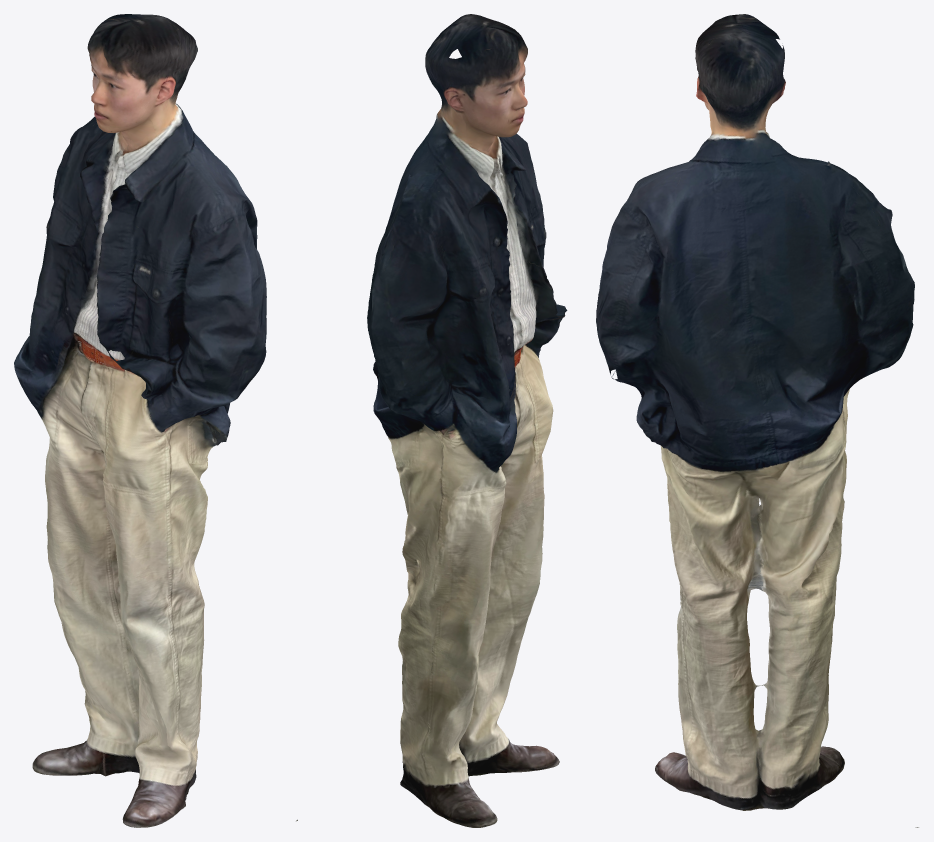
Rendered from korean4.glb.
The picture shows the model from 3 angles, left to right: view 1: azimuth 30°, elevation 25°; view 2: azimuth 150°, elevation 25°; view 3: azimuth 270°, elevation 25°; orthographic projection. The views are drawn at different scales.
Parts seen in each view (by area): view 1: Object_4; view 2: Object_4; view 3: Object_4.
Boxes of the visible parts, bbox=[...] form: Object_4: bbox=[14, 14, 266, 827]; Object_4: bbox=[296, 14, 567, 827]; Object_4: bbox=[596, 14, 918, 827].
Size of the model in its own units: 0.4057 by 1.77 by 0.6859.
Materials: 1 (1 with a texture image).
